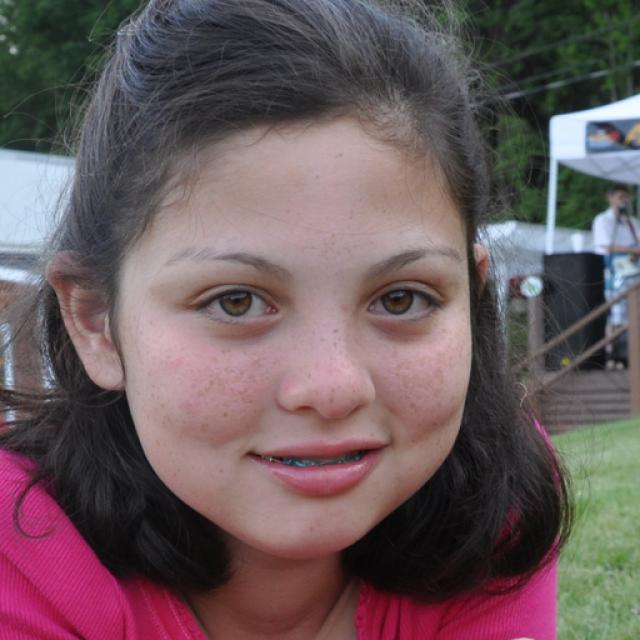Pigmentation: (383, 339, 466, 413), (305, 322, 370, 405), (200, 350, 269, 420)
